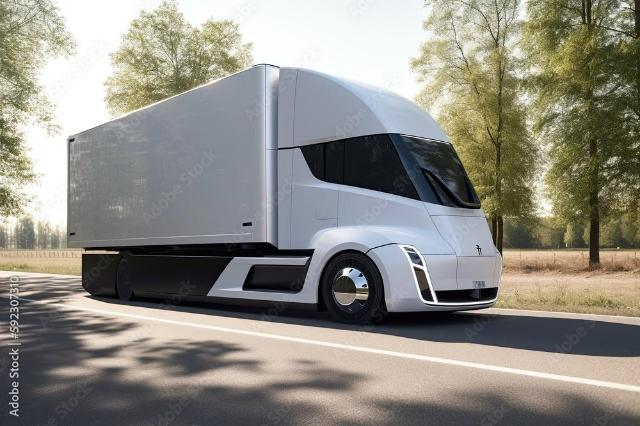truck: (96, 63, 508, 321)
